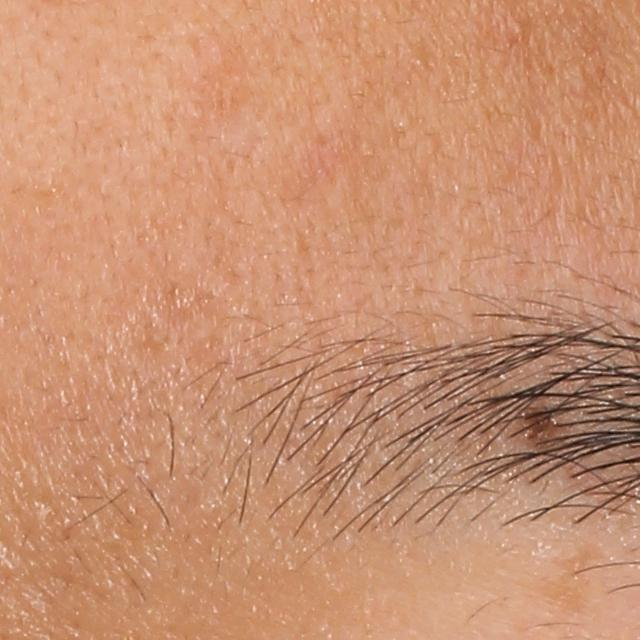comedo: (507, 13, 527, 39)
melasma: (536, 539, 611, 621)
